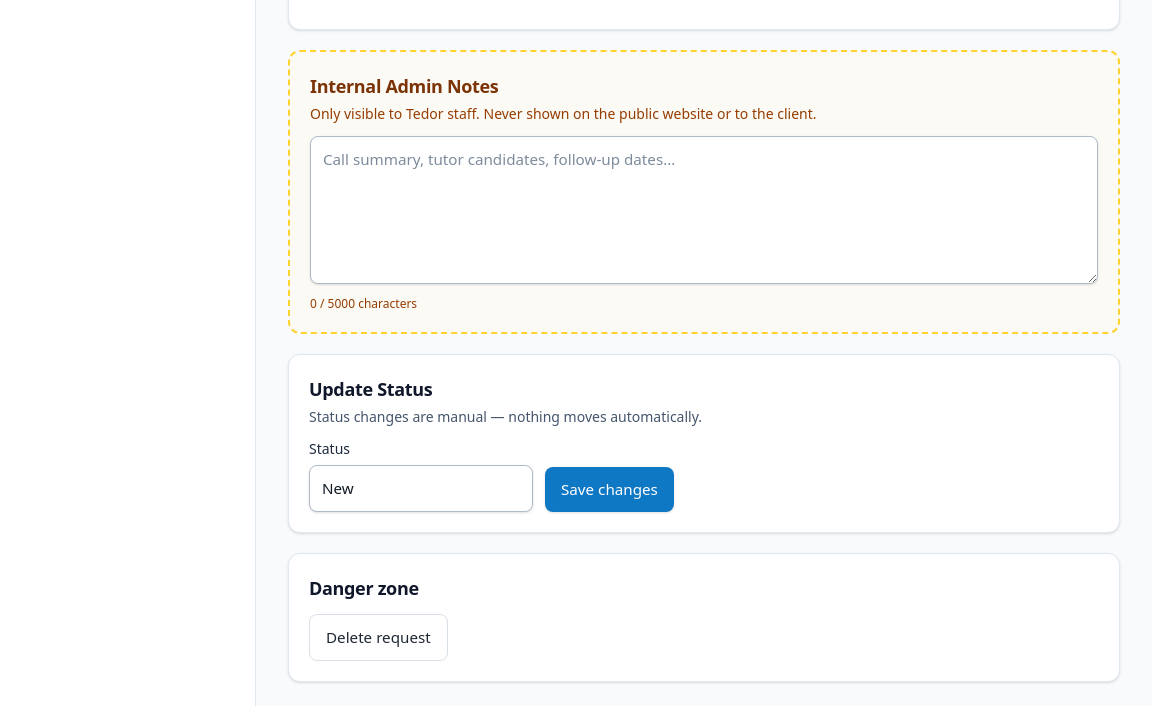
AdminRequestDetailPage › cancels a delete without removing the request
(page scrolled)
What coordinates should you click on to do the following:
click the button "Delete request"
I would click on:
 (378, 637)
Its box is [309, 614, 448, 661].
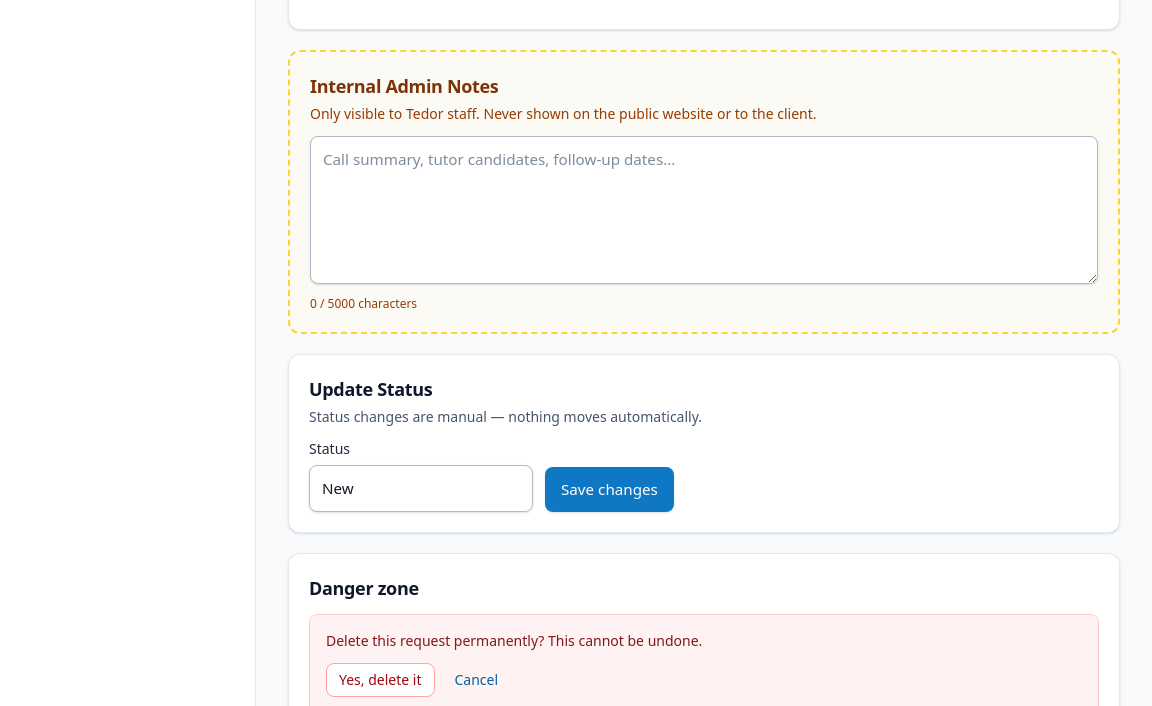
What coordinates should you click on to do the following:
click the button "Cancel"
I would click on:
 (476, 680)
Its box is [442, 663, 510, 697].
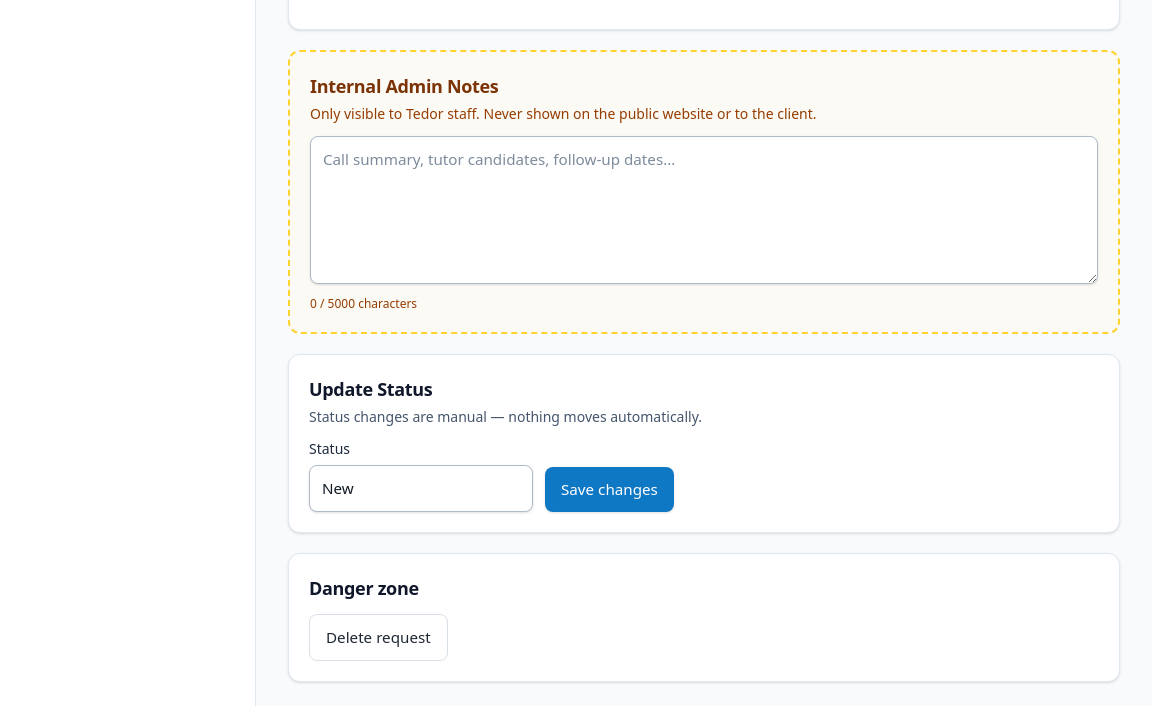
Result: the button "Delete request" is shown at [309, 614, 448, 661]
